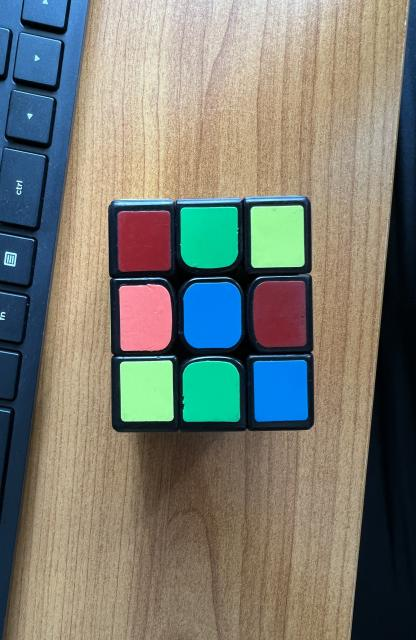Blue: (183, 282, 242, 349), (254, 360, 308, 422)
Green: (182, 360, 240, 422), (181, 206, 238, 269)
Orange: (119, 284, 172, 351)
Red: (252, 281, 307, 348), (118, 210, 171, 271)
Yellow: (250, 205, 304, 268), (119, 360, 174, 421)
